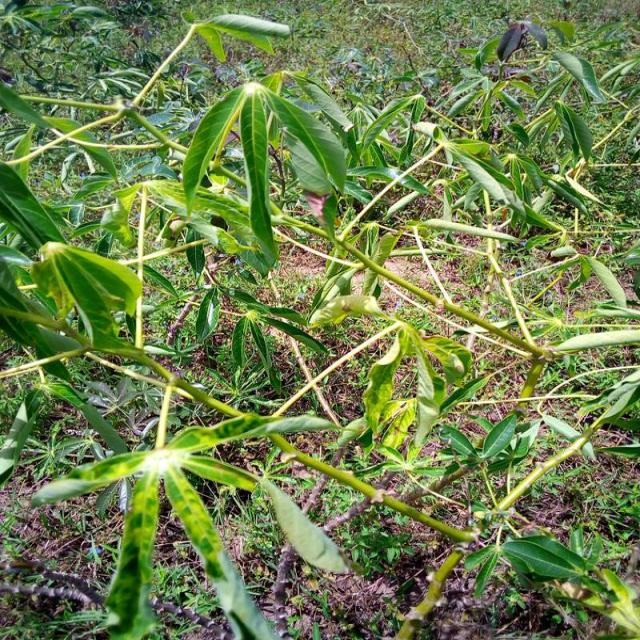cassava leaf: (181, 72, 347, 273)
